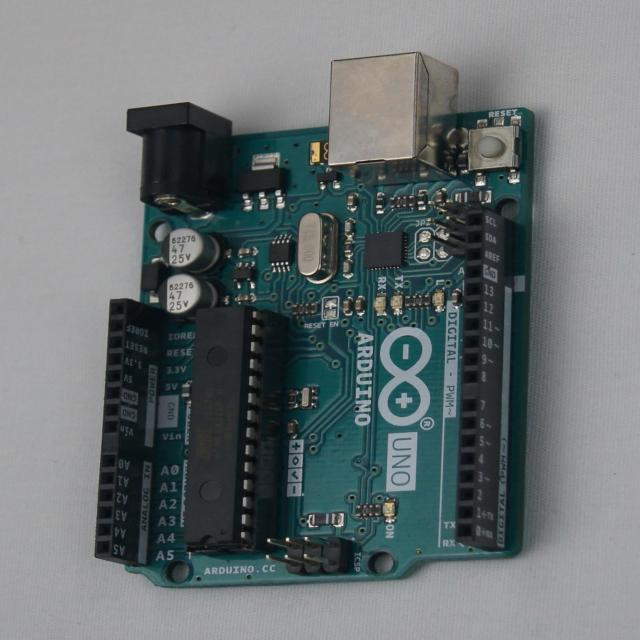Arduino Uno -Green-: (97, 54, 534, 587)
